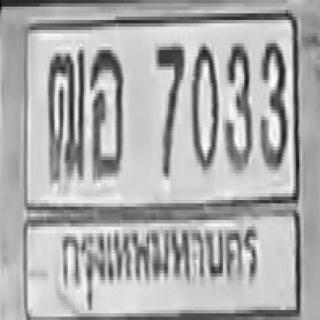A18: (47, 48, 84, 178)
A43: (89, 47, 123, 173)
N00: (191, 40, 217, 167)
N03: (258, 38, 286, 165), (222, 40, 250, 167)
N07: (154, 40, 182, 173)
P04: (58, 222, 263, 307)
